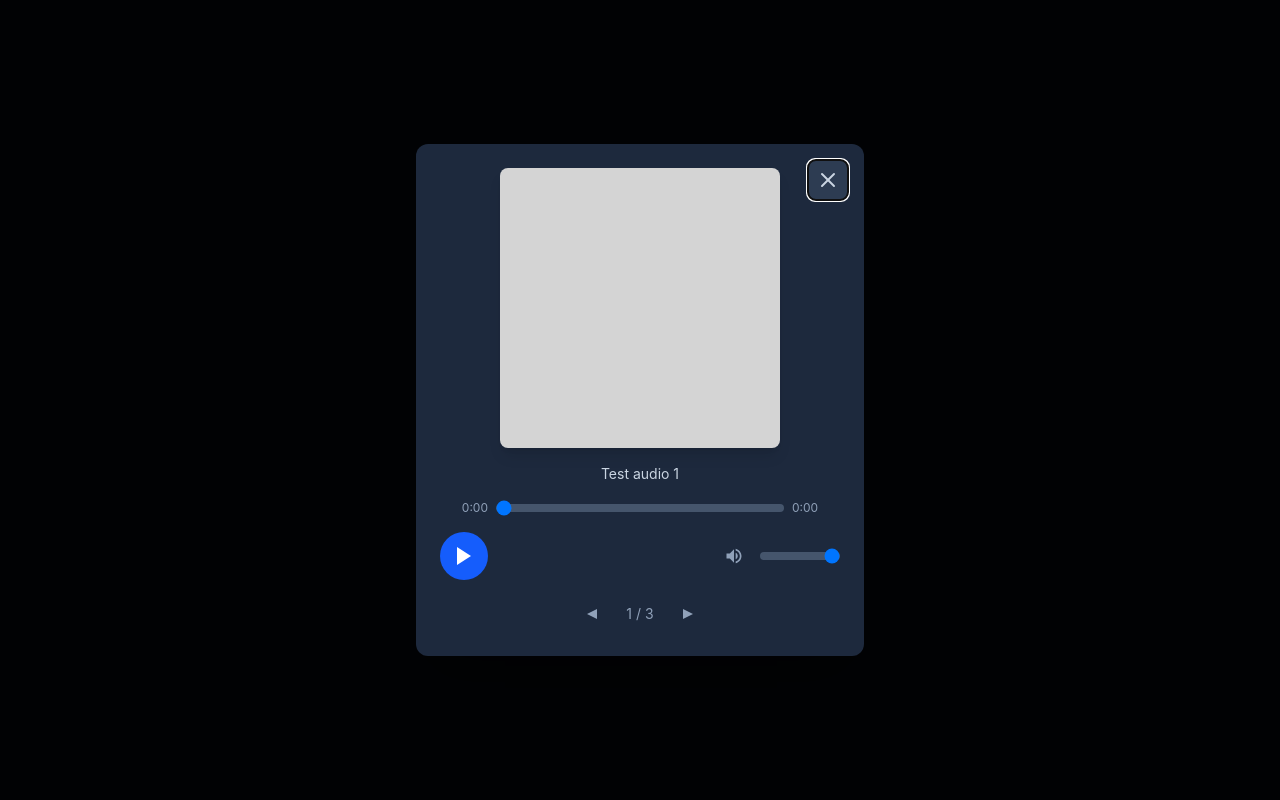
Test: AudioPlayer › playback controls › should show pause icon when playing
Click the button named "再生" at (464, 556), box x1=440 y1=532 x2=488 y2=580
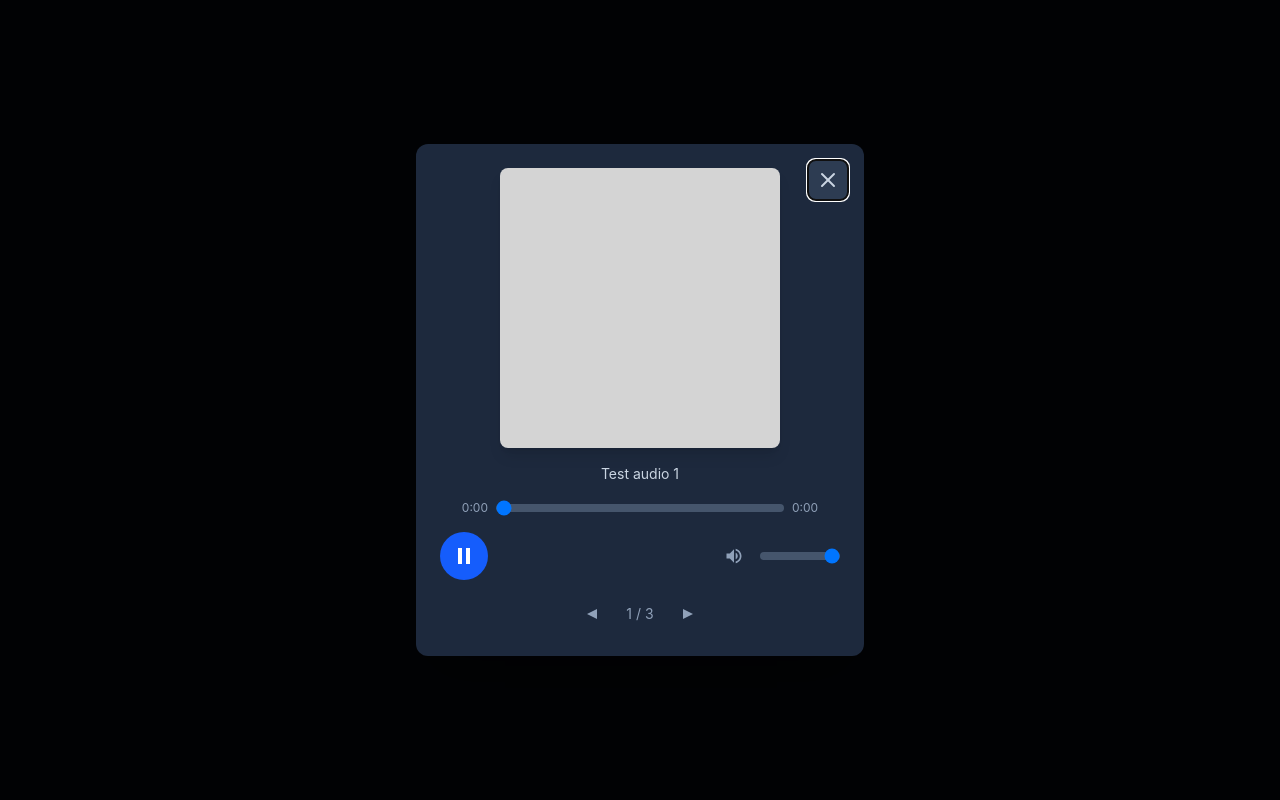
Expected: the button named "一時停止" is shown, x1=440 y1=532 x2=488 y2=580
